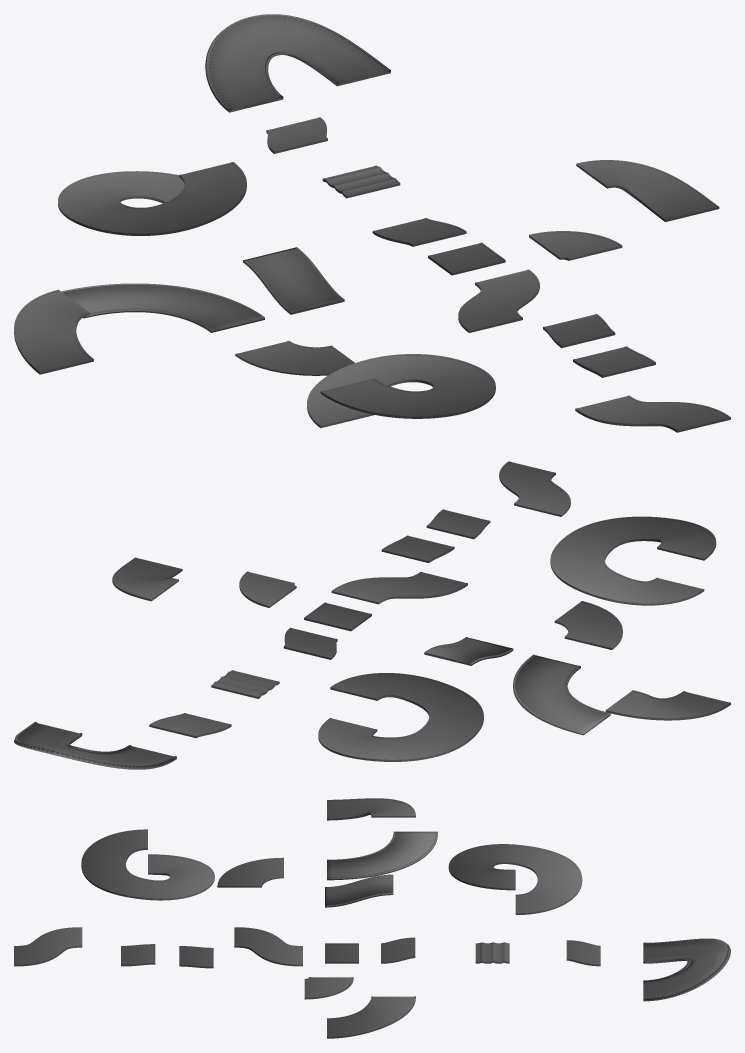
File: pistas.fbx
3 views of the same model, one above another, from view 1: azimuth 30°, elevation 25°; view 2: azimuth 150°, elevation 25°; view 3: azimuth 270°, elevation 25° (orthographic). The views are drawn at different scales.
Parts seen in each view (by area): view 1: ModularTrackUBank, ModularTrackSpiralRight, ModularTrackSpiralLeft, ModularTrackCurveLargeLeft, ModularTrackRampCurveRight, ModularTrackRampCurveLeft, ModularTrackRamp, ModularTrackSCurveLeft, ModularTrackSCurveRight, ModularTrackCurveMediumLeft, ModularTrackCurveLeft, ModularTrackCantMediumLeft (+5 smaller); view 2: ModularTrackSpiralRight, ModularTrackSpiralLeft, ModularTrackCurveLargeLeft, ModularTrackUBank, ModularTrackSCurveRight, ModularTrackRampCurveRight, ModularTrackSCurveLeft, ModularTrackCurveMediumLeft, ModularTrackRampCurveLeft, ModularTrackRamp, ModularTrackCurveLeft, ModularTrackCantMediumRight (+5 smaller); view 3: ModularTrackSpiralLeft, ModularTrackSpiralRight, ModularTrackUBank, ModularTrackCurveLargeLeft, ModularTrackRampCurveLeft, ModularTrackSCurveRight, ModularTrackSCurveLeft, ModularTrackRampCurveRight, ModularTrackCurveMediumLeft, ModularTrackRamp, ModularTrackCurveLeft, ModularTrackCantMediumRight (+5 smaller).
Boxes of the visible parts, x1,y1,x2,y2 form: ModularTrackUBank: [205, 14, 390, 112]; ModularTrackSpiralRight: [307, 354, 495, 428]; ModularTrackSpiralLeft: [58, 162, 246, 235]; ModularTrackCurveLargeLeft: [61, 283, 264, 332]; ModularTrackRampCurveRight: [14, 289, 93, 374]; ModularTrackRampCurveLeft: [576, 160, 719, 221]; ModularTrackRamp: [243, 247, 344, 314]; ModularTrackSCurveLeft: [575, 395, 730, 432]; ModularTrackSCurveRight: [458, 269, 539, 332]; ModularTrackCurveMediumLeft: [235, 340, 354, 375]; ModularTrackCurveLeft: [529, 231, 622, 260]; ModularTrackCantMediumLeft: [372, 218, 466, 246]; ModularTrackSpiralRight: [550, 516, 716, 605]; ModularTrackSpiralLeft: [318, 673, 483, 761]; ModularTrackCurveLargeLeft: [513, 654, 610, 735]; ModularTrackUBank: [14, 722, 176, 769]; ModularTrackSCurveRight: [331, 572, 467, 604]; ModularTrackRampCurveRight: [605, 690, 730, 720]; ModularTrackSCurveLeft: [499, 461, 570, 516]; ModularTrackCurveMediumLeft: [554, 601, 622, 649]; ModularTrackRampCurveLeft: [112, 557, 182, 601]; ModularTrackRamp: [424, 637, 513, 665]; ModularTrackCurveLeft: [239, 571, 296, 607]; ModularTrackCantMediumRight: [149, 713, 231, 738]; ModularTrackSpiralLeft: [448, 844, 582, 914]; ModularTrackSpiralRight: [81, 829, 214, 900]; ModularTrackUBank: [643, 938, 730, 1001]; ModularTrackCurveLargeLeft: [327, 831, 437, 880]; ModularTrackRampCurveLeft: [327, 996, 415, 1038]; ModularTrackSCurveRight: [234, 927, 302, 966]; ModularTrackSCurveLeft: [14, 927, 82, 966]; ModularTrackRampCurveRight: [327, 798, 415, 820]; ModularTrackCurveMediumLeft: [217, 857, 283, 887]; ModularTrackRamp: [325, 874, 393, 907]; ModularTrackCurveLeft: [304, 977, 353, 999]; ModularTrackCantMediumRight: [566, 940, 600, 966].
Bounding box in the file's own units: 16384 × 856 × 20948.
17 materials, 17 textured.
